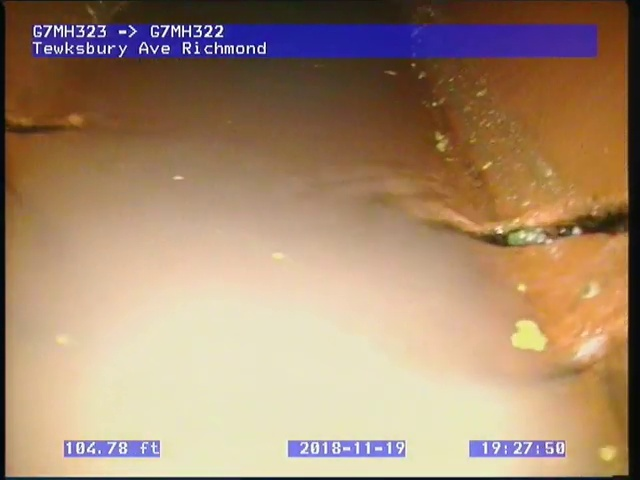crack: (419, 196, 629, 250), (3, 108, 95, 142)
